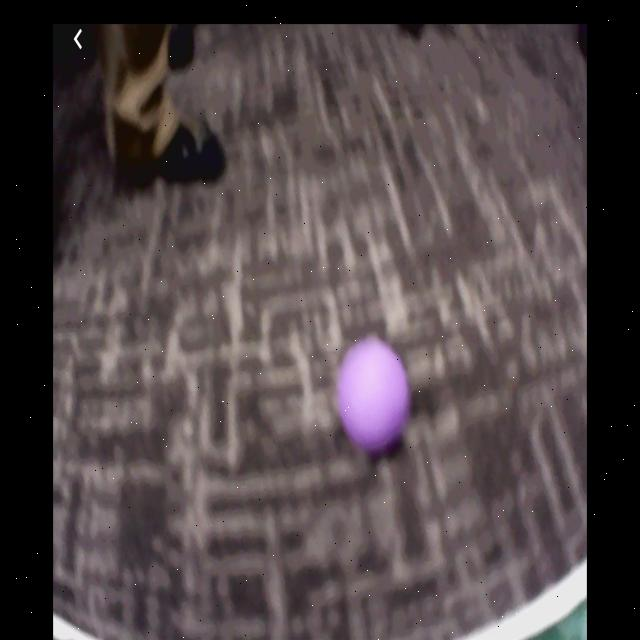ball: (340, 341, 409, 449)
